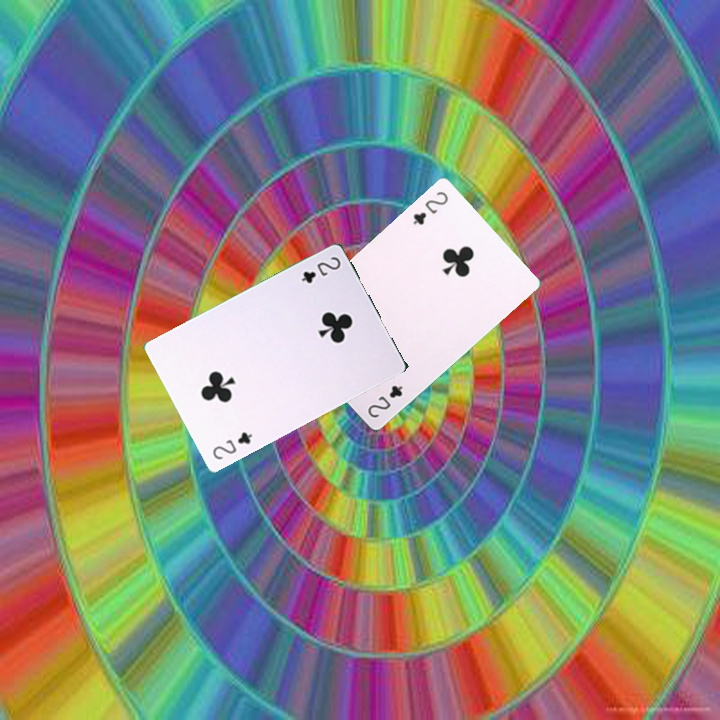2c: (409, 187, 451, 228), (363, 381, 406, 420), (208, 428, 255, 462), (297, 252, 343, 286)
